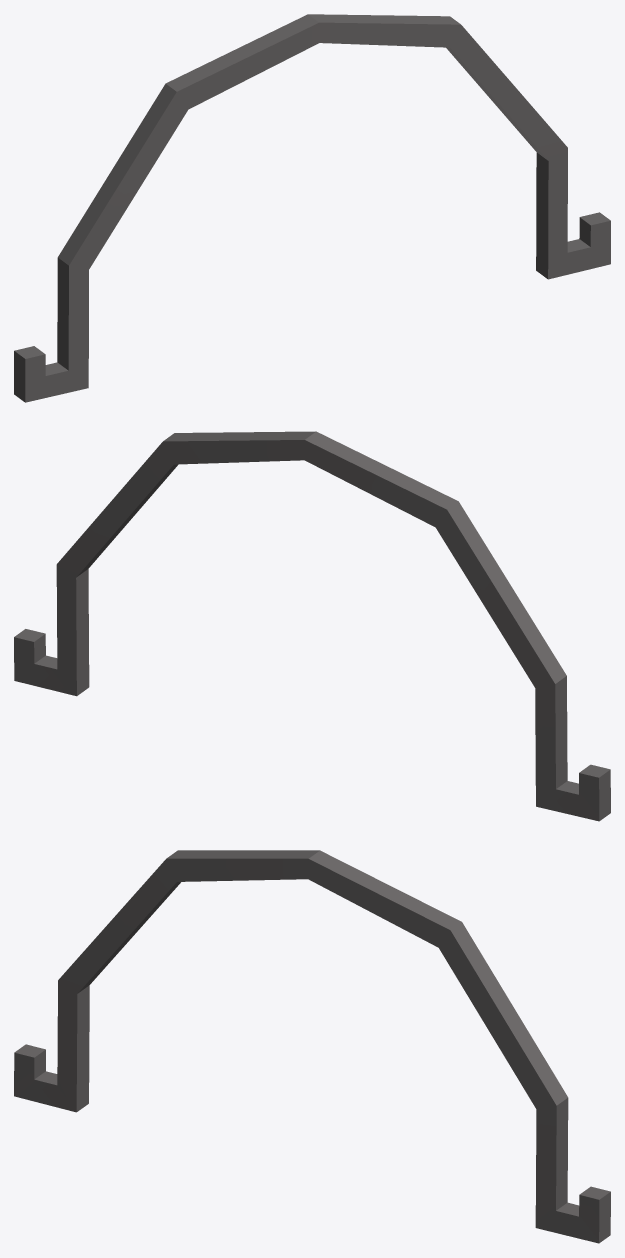
Rendered from SM_Prop_Paint_Can_Open_Alt_01_Handle.obj.
3 views of the same model, one above another, from view 1: azimuth 30°, elevation 25°; view 2: azimuth 150°, elevation 25°; view 3: azimuth 330°, elevation 25° (orthographic).
Parts seen in each view (by area): view 1: SM_Prop_Paint_Can_Open_Alt_01_Handle_0; view 2: SM_Prop_Paint_Can_Open_Alt_01_Handle_0; view 3: SM_Prop_Paint_Can_Open_Alt_01_Handle_0.
Part boxes in pixels (x1,y1,x2,y2): SM_Prop_Paint_Can_Open_Alt_01_Handle_0: [14, 14, 610, 402]; SM_Prop_Paint_Can_Open_Alt_01_Handle_0: [14, 431, 610, 821]; SM_Prop_Paint_Can_Open_Alt_01_Handle_0: [14, 850, 610, 1243].
Bounding box in the file's own units: 0.3975 × 0.2026 × 0.0156.
1 material, 1 textured.
